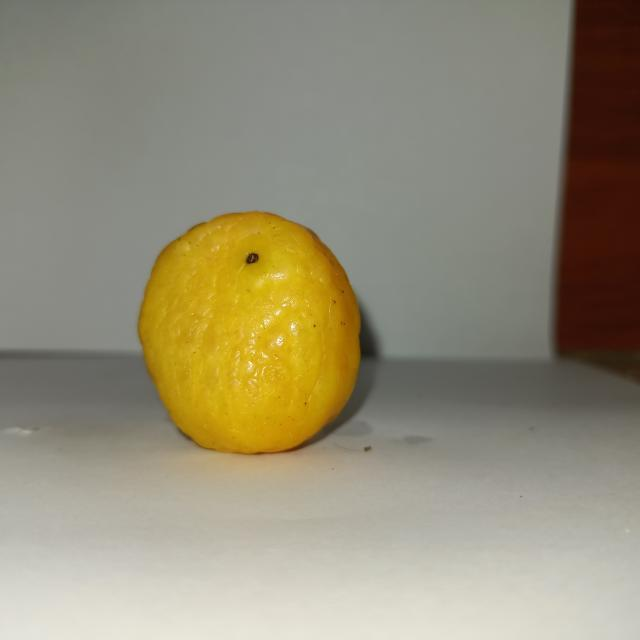Red: (136, 209, 362, 454)
